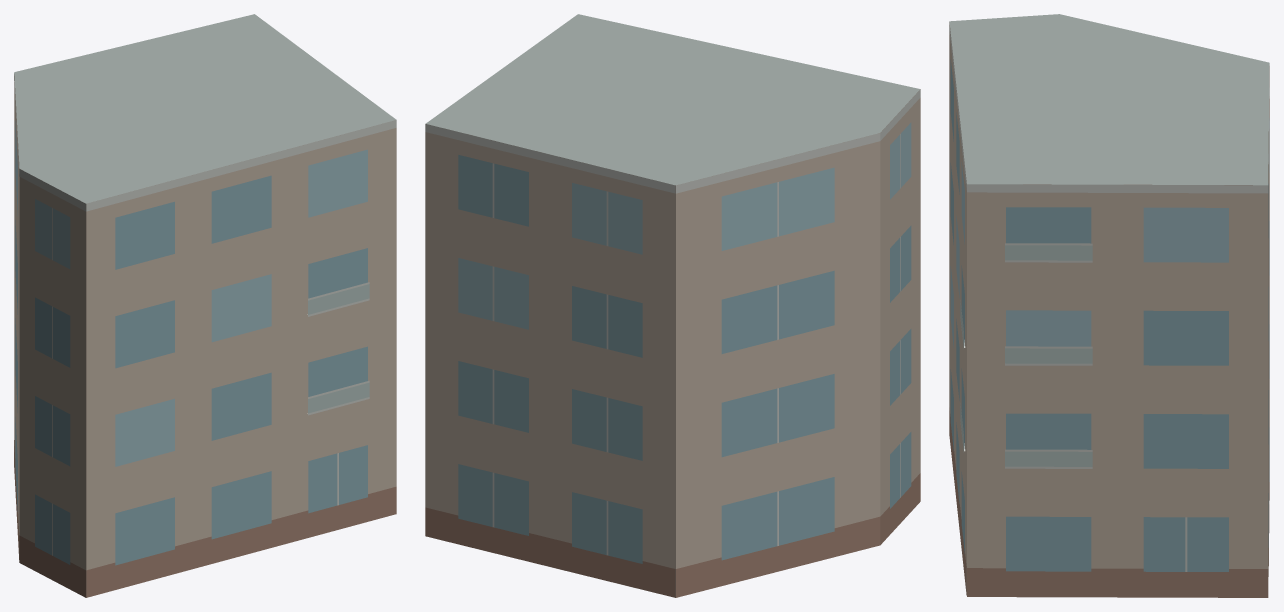
The model's file is survey-upis-32947406.glb.
3 views of the same model, side by side, from view 1: azimuth 30°, elevation 25°; view 2: azimuth 150°, elevation 25°; view 3: azimuth 270°, elevation 25° (orthographic). The views are drawn at different scales.
Parts seen in each view (by area): view 1: survey-upis-32947406.tmp; view 2: survey-upis-32947406.tmp; view 3: survey-upis-32947406.tmp.
Boxes of the visible parts, bbox=[...] form: survey-upis-32947406.tmp: bbox=[14, 14, 396, 597]; survey-upis-32947406.tmp: bbox=[425, 14, 920, 597]; survey-upis-32947406.tmp: bbox=[949, 14, 1269, 597].
Size of the model in its own units: 10.86 by 12.2 by 8.59.
